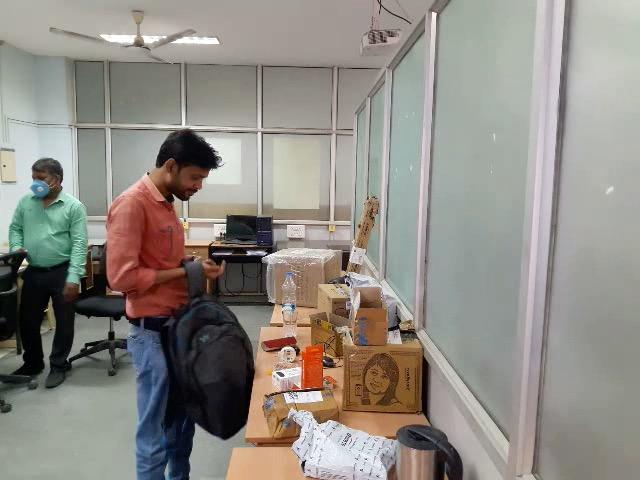Normal: (101, 126, 259, 480)
